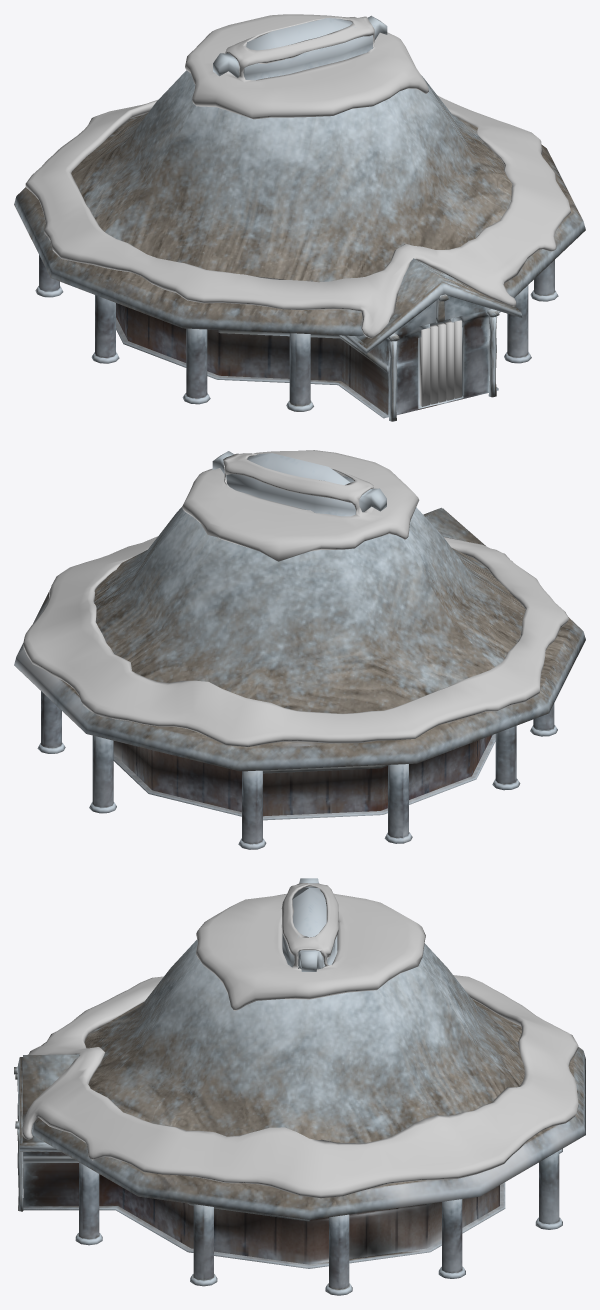
File: huttsnow.fbx
3 views of the same model, one above another, from view 1: azimuth 30°, elevation 25°; view 2: azimuth 150°, elevation 25°; view 3: azimuth 270°, elevation 25° (orthographic).
Visible parts, largest first — view 1: JotunHouse2, ZBrush_defualt_group, door1(2); view 2: JotunHouse2, ZBrush_defualt_group; view 3: JotunHouse2, ZBrush_defualt_group.
Part boxes in pixels (box(x1,y1,x2,y2)): JotunHouse2: box(14, 15, 585, 421); ZBrush_defualt_group: box(25, 14, 570, 338); door1(2): box(419, 320, 461, 406); JotunHouse2: box(14, 451, 585, 849); ZBrush_defualt_group: box(23, 450, 568, 746); JotunHouse2: box(14, 878, 585, 1295); ZBrush_defualt_group: box(22, 883, 578, 1198).
Size of the model in its own units: 56.7 by 30.49 by 55.72.
